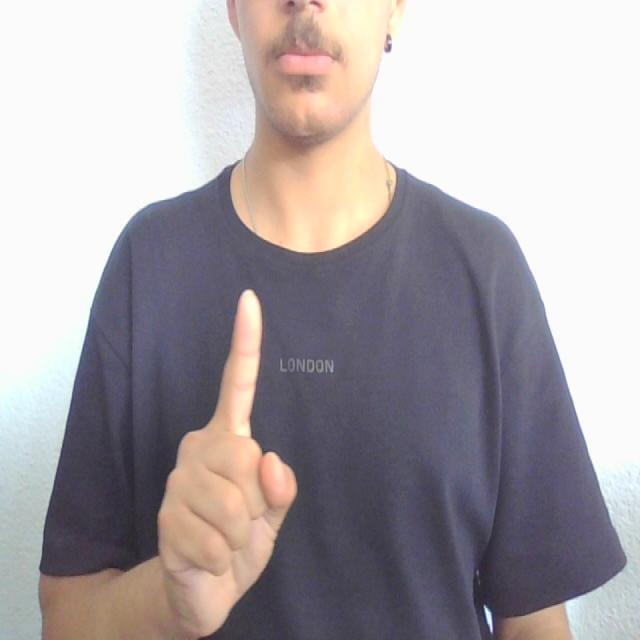Hayir: (139, 260, 309, 640)
